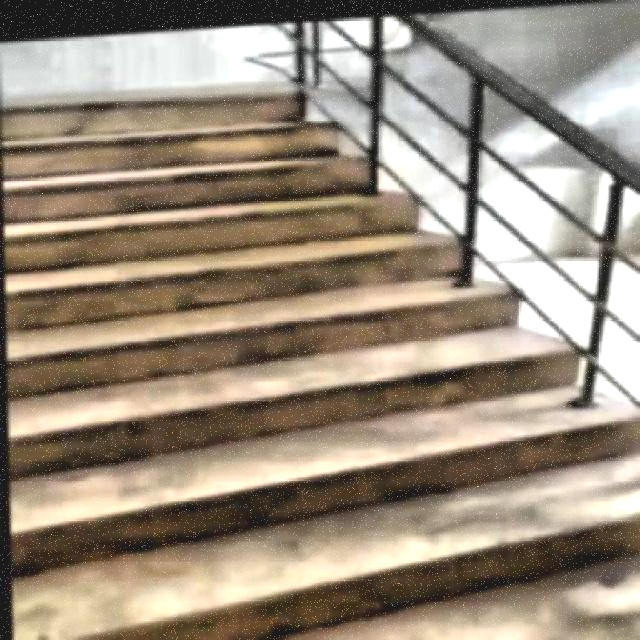stair: (2, 59, 640, 638)
